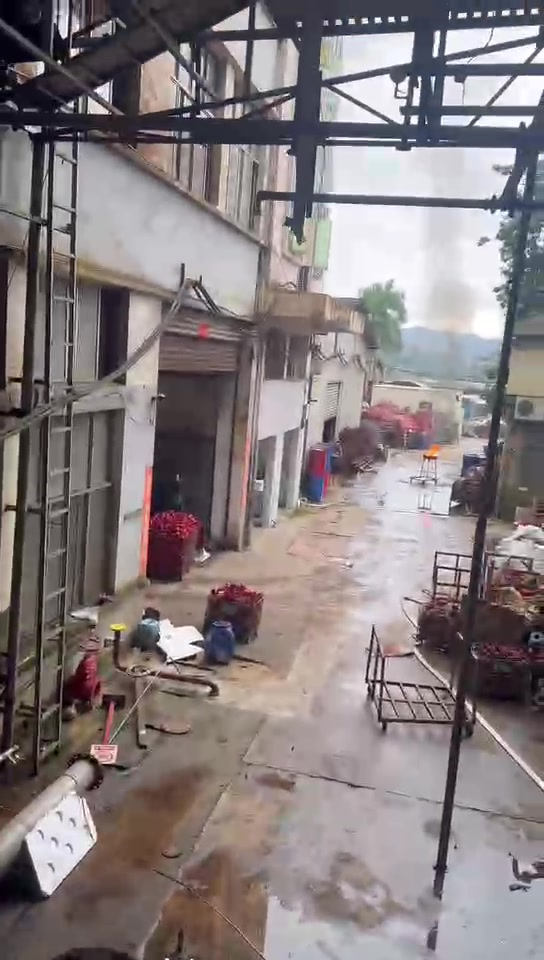fire: (425, 443, 438, 456)
